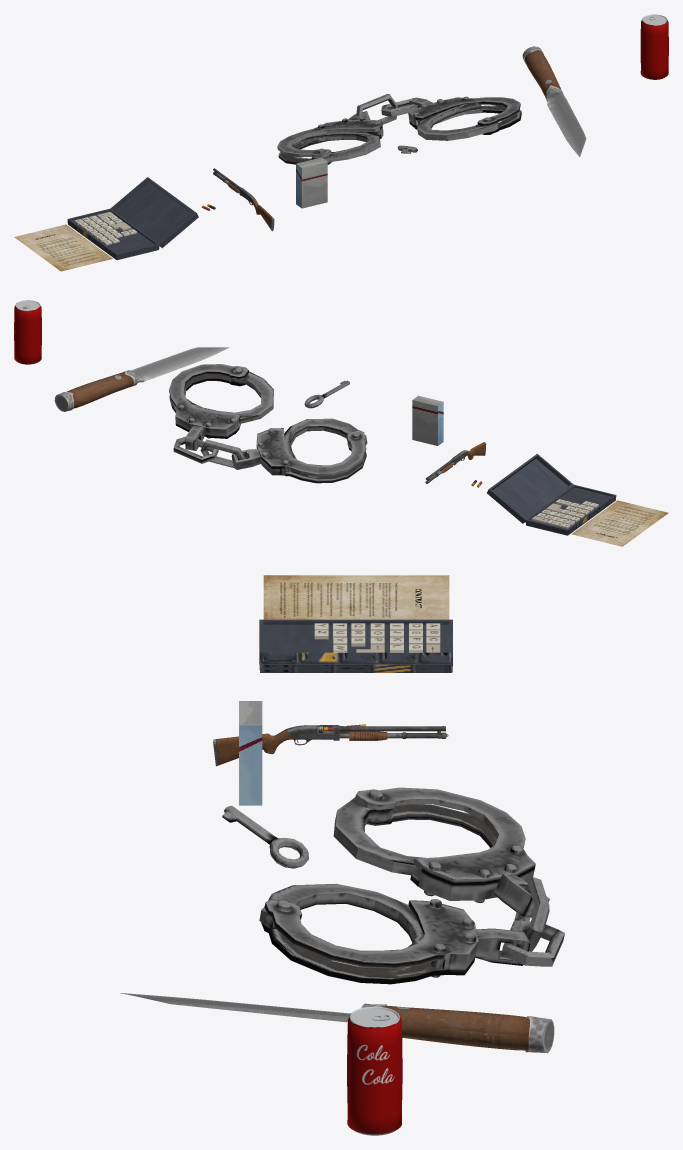
File: props 01.fbx
3 renders of one model, top to bottom at view 1: azimuth 30°, elevation 25°; view 2: azimuth 150°, elevation 25°; view 3: azimuth 270°, elevation 25°, orthographic. The views are drawn at different scales.
Visible parts, largest first — view 1: Object, Plane004, Knife.001, defaultMaterial.002, defaultMaterial.020, Lata, Box027, box1, defaultMaterial.012, defaultMaterial.005, defaultMaterial.017, defaultMaterial.011; view 2: Object, defaultMaterial.002, defaultMaterial.020, Knife.001, Plane004, Lata, Box027, box1, defaultMaterial.012, defaultMaterial.005, defaultMaterial.017, defaultMaterial.011 (+1 smaller); view 3: defaultMaterial.020, defaultMaterial.002, Plane004, Knife.001, Lata, Box027, Object, defaultMaterial.012, defaultMaterial.005, box1, defaultMaterial.007, defaultMaterial.011 (+4 smaller).
Part boxes in pixels (x1=…): Object: x1=110, y1=177, x2=198, y2=248; Plane004: x1=14, y1=224, x2=112, y2=271; Knife.001: x1=522, y1=46, x2=586, y2=156; defaultMaterial.002: x1=408, y1=97, x2=521, y2=134; defaultMaterial.020: x1=277, y1=119, x2=383, y2=164; Lata: x1=640, y1=14, x2=668, y2=79; Box027: x1=67, y1=208, x2=159, y2=259; box1: x1=296, y1=157, x2=327, y2=208; defaultMaterial.012: x1=417, y1=102, x2=499, y2=140; defaultMaterial.005: x1=300, y1=131, x2=380, y2=162; defaultMaterial.017: x1=356, y1=94, x2=397, y2=124; defaultMaterial.011: x1=381, y1=97, x2=426, y2=116; Object: x1=487, y1=453, x2=573, y2=523; defaultMaterial.002: x1=169, y1=364, x2=248, y2=438; defaultMaterial.020: x1=256, y1=428, x2=366, y2=483; Knife.001: x1=54, y1=347, x2=229, y2=411; Plane004: x1=571, y1=500, x2=668, y2=546; Lata: x1=14, y1=300, x2=41, y2=364; Box027: x1=525, y1=484, x2=616, y2=535; box1: x1=412, y1=395, x2=443, y2=445; defaultMaterial.012: x1=187, y1=371, x2=273, y2=423; defaultMaterial.005: x1=284, y1=418, x2=367, y2=476; defaultMaterial.017: x1=200, y1=439, x2=246, y2=469; defaultMaterial.011: x1=173, y1=436, x2=218, y2=463; defaultMaterial.020: x1=355, y1=787, x2=535, y2=900; defaultMaterial.002: x1=261, y1=899, x2=478, y2=984; Plane004: x1=263, y1=575, x2=449, y2=619; Knife.001: x1=120, y1=993, x2=554, y2=1053; Lata: x1=347, y1=1006, x2=402, y2=1135; Box027: x1=259, y1=619, x2=452, y2=652; Object: x1=259, y1=652, x2=452, y2=672; defaultMaterial.012: x1=259, y1=883, x2=424, y2=946; defaultMaterial.005: x1=333, y1=797, x2=494, y2=875; box1: x1=239, y1=701, x2=262, y2=805; defaultMaterial.007: x1=222, y1=805, x2=308, y2=868; defaultMaterial.011: x1=501, y1=920, x2=564, y2=966.
Bounding box in the file's own units: 246 × 76.07 × 30.05.
